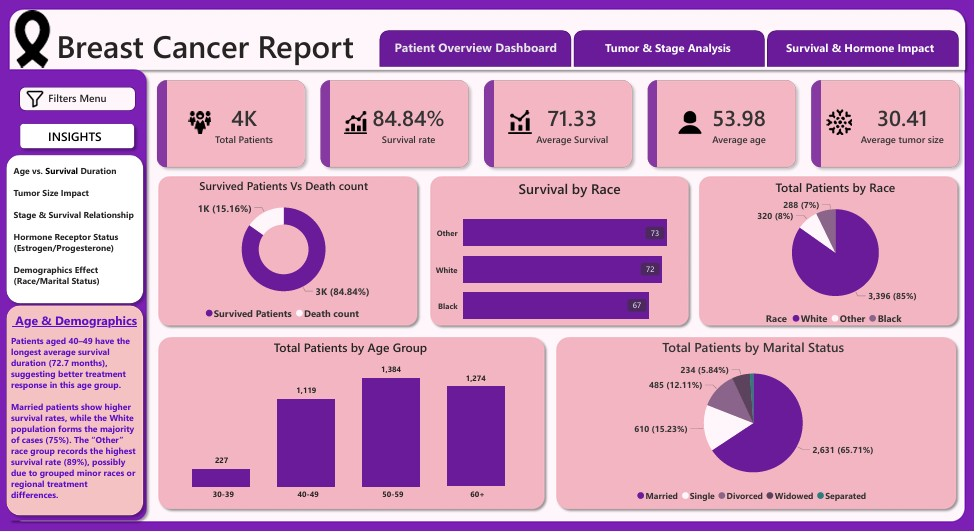

This screenshot's page, from the dashboard's own definition file:
{"tool":"powerbi","page":{"name":"Patient Overview Dashboard","canvas":[1500,820],"ordinal":0},"visuals":[{"type":"cardVisual","fields":{"Data":["Breast_Cancer.Total Patients","Breast_Cancer.Survival rate %","Breast_Cancer.Avg Survival","Breast_Cancer.Avg age","Breast_Cancer.Average tumor size"]},"box":[221.6,102,1276.5,174],"z":0},{"type":"donutChart","title":"Survived Patients Vs Death count","fields":{"Y":["Breast_Cancer.Survived Patients","Breast_Cancer.Death count"]},"box":[241.2,272.5,390.2,229.4],"z":1000},{"type":"barChart","title":"Survival by Race","fields":{"Category":["Breast_Cancer.Race"],"Y":["Breast_Cancer.Avg Survival"]},"box":[663.9,275.4,424.6,226.2],"z":2000},{"type":"pieChart","fields":{"Category":["Breast_Cancer.Race"],"Y":["Breast_Cancer.Total Patients"]},"box":[1080.3,273.8,411.5,227.9],"z":3000},{"type":"pieChart","fields":{"Category":["Breast_Cancer.Marital Status"],"Y":["Breast_Cancer.Total Patients"]},"box":[859,519.7,634.4,262.3],"z":4000},{"type":"columnChart","fields":{"Category":["Breast_Cancer.Age Group"],"Y":["Breast_Cancer.Total Patients"]},"box":[239.2,521.6,600,258.8],"z":5000},{"type":"shape","box":[29.2,133.3,179.2,36.5],"z":6000},{"type":"textbox","box":[29.2,135,179.2,36.5],"z":7000},{"type":"image","box":[0,9.8,98,98],"z":8000},{"type":"textbox","box":[81,32,494.1,80.4],"z":9000},{"type":"shape","box":[584.5,45.6,294.7,56.1],"z":10000},{"type":"shape","box":[0,229.3,229.3,246.6],"z":11000},{"type":"shape","box":[882.7,45.6,294.7,56.1],"z":12000},{"type":"shape","box":[1181,45.6,294.7,56.1],"z":13000},{"type":"pageNavigator","box":[589,47,879.5,50],"z":14000},{"type":"actionButton","box":[33.9,139.1,33.9,27.8],"z":15000},{"type":"image","box":[29,133.5,47.2,37.9],"z":16000},{"type":"textbox","box":[14.5,248.4,206.5,227.4],"z":17000},{"type":"shape","box":[0,461.3,229,341.9],"z":18000},{"type":"shape","box":[20.6,181.4,194.8,55.7],"z":19000},{"type":"textbox","box":[14,191,201,38.1],"z":20000},{"type":"textbox","box":[11,475.8,206.5,43.5],"z":22000},{"type":"textbox","box":[11.1,510.1,204,285.9],"z":23000}]}

Visuals, with their boxes in screenshot pixels (x1, y1, x2, y2), scaled from the page's 1500x820 canvas onto the 975x532 screenshot:
cardVisual - Breast_Cancer.Total Patients x Breast_Cancer.Survival rate %: [144,66,974,179]
"Survived Patients Vs Death count" donutChart: [157,177,410,326]
"Survival by Race" barChart: [432,179,708,325]
pieChart - Breast_Cancer.Race x Breast_Cancer.Total Patients: [702,178,970,325]
pieChart - Breast_Cancer.Marital Status x Breast_Cancer.Total Patients: [558,337,971,507]
columnChart - Breast_Cancer.Age Group x Breast_Cancer.Total Patients: [155,338,545,506]
shape: [19,86,135,110]
textbox: [19,88,135,111]
image: [0,6,64,70]
textbox: [53,21,374,73]
shape: [380,30,571,66]
shape: [0,149,149,309]
shape: [574,30,765,66]
shape: [768,30,959,66]
pageNavigator: [383,30,955,63]
actionButton: [22,90,44,108]
image: [19,87,50,111]
textbox: [9,161,144,309]
shape: [0,299,149,521]
shape: [13,118,140,154]
textbox: [9,124,140,149]
textbox: [7,309,141,337]
textbox: [7,331,140,516]
